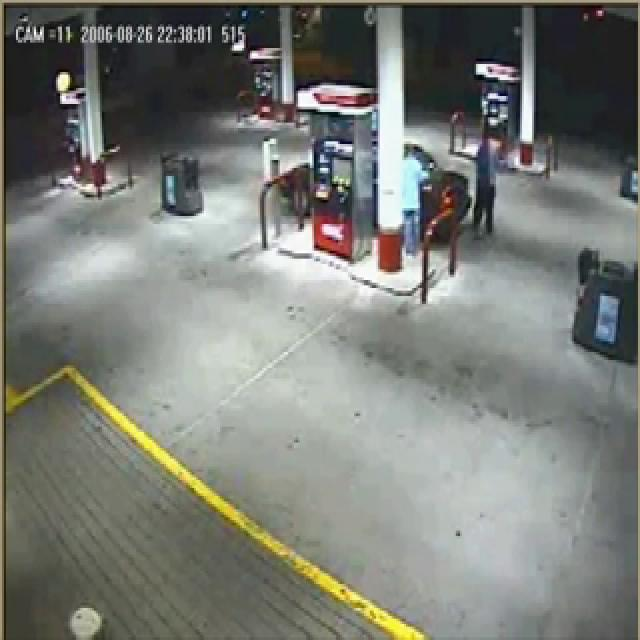explosion: (352, 68, 544, 411)
